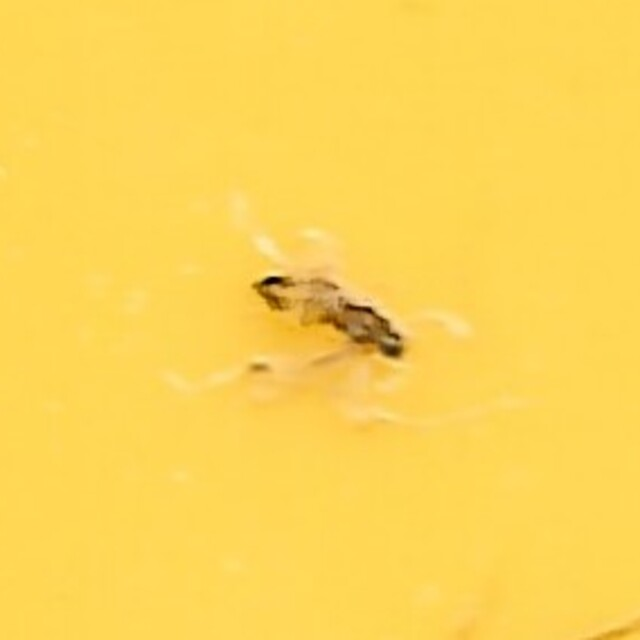Nematocera: (225, 247, 415, 393)
